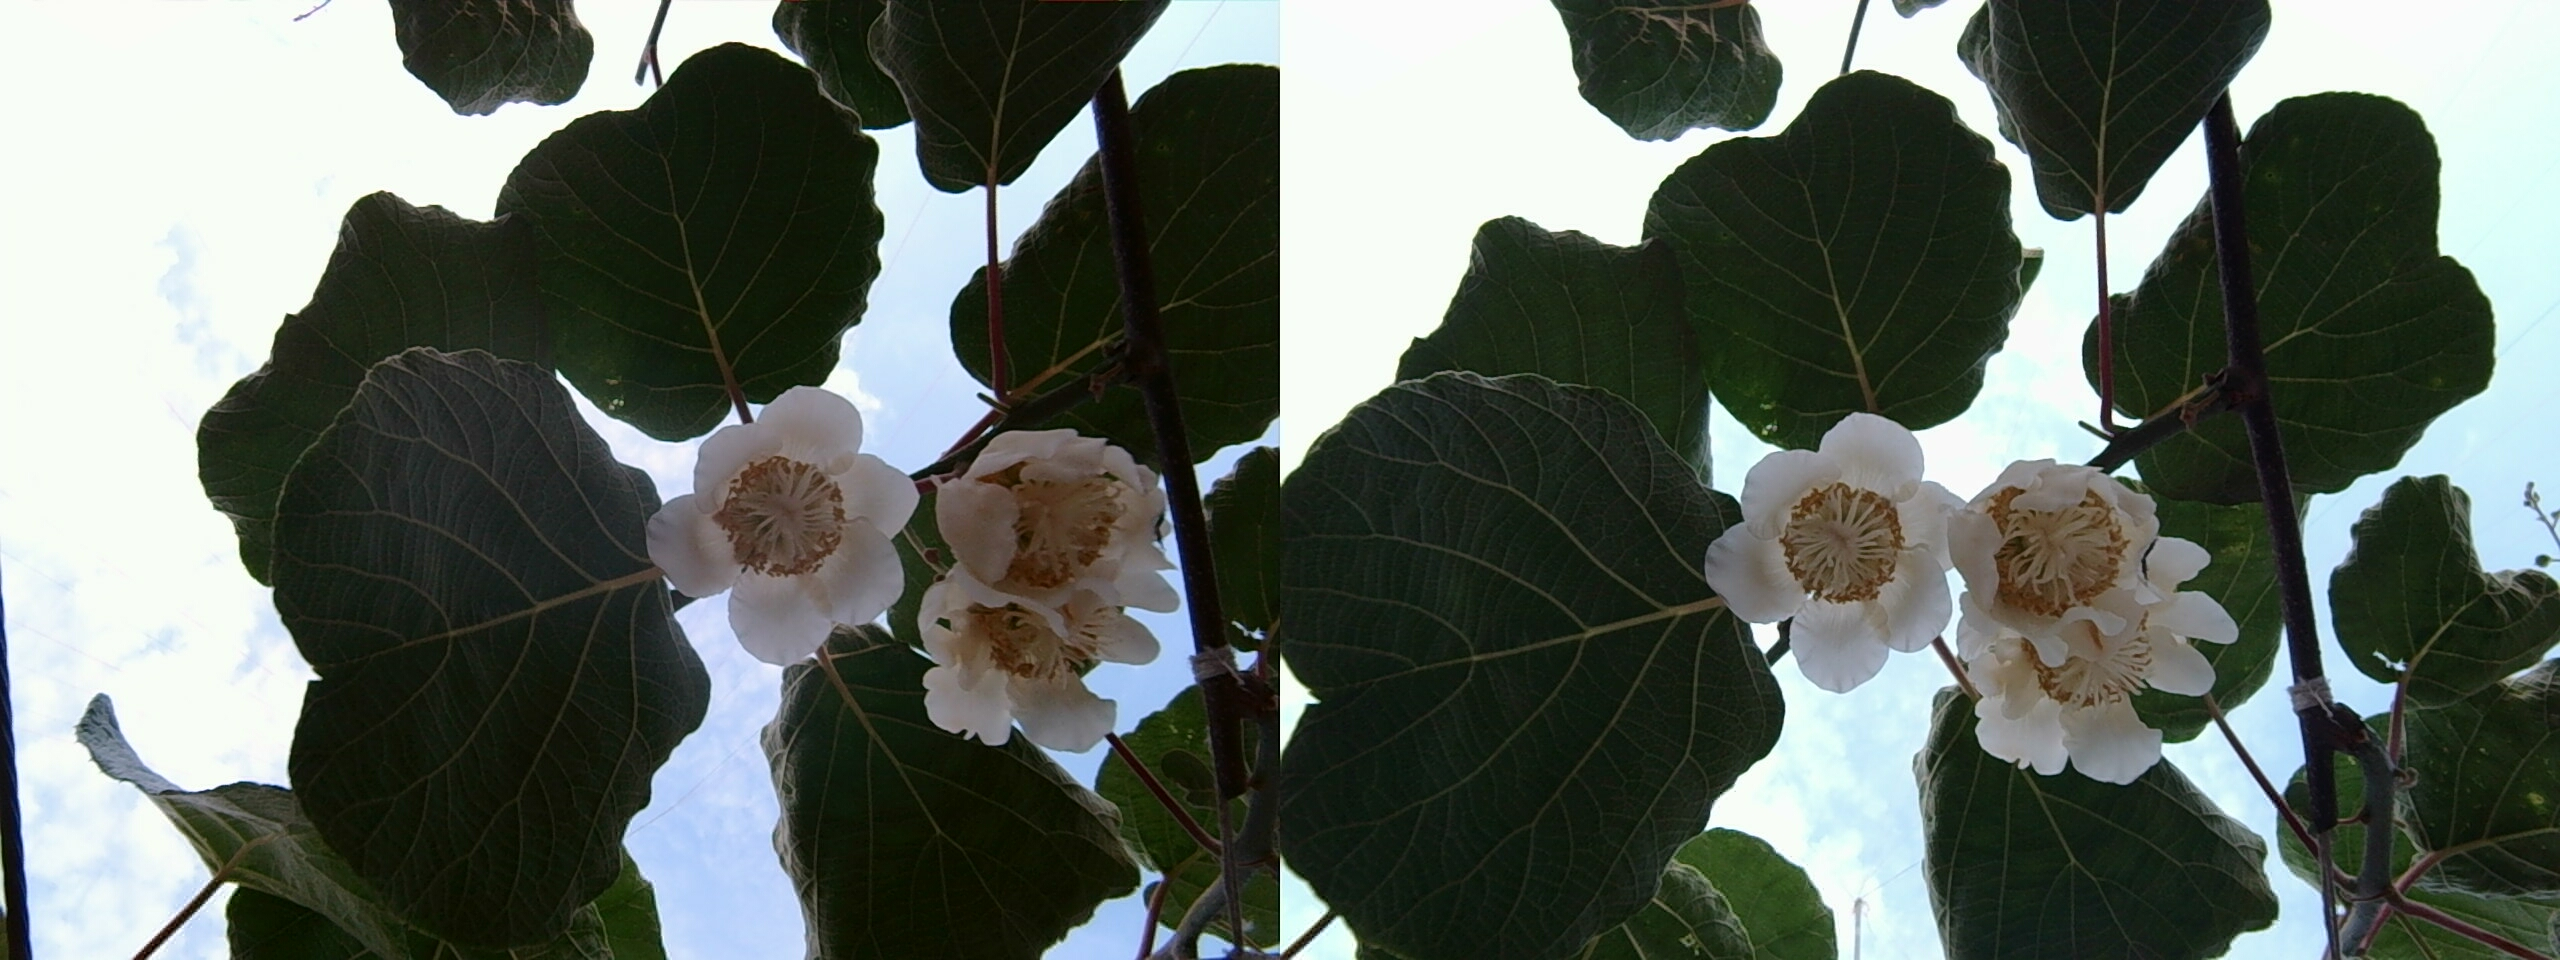flower: (655, 369, 922, 669), (1698, 398, 1958, 691), (883, 532, 1172, 776), (1936, 567, 2260, 776), (926, 403, 1187, 642), (1927, 451, 2170, 625)
